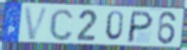0: (103, 10, 125, 43)
2: (75, 8, 100, 42)
6: (156, 10, 177, 46)
C: (48, 7, 75, 43)
P: (125, 10, 155, 44)
V: (23, 6, 51, 42)
